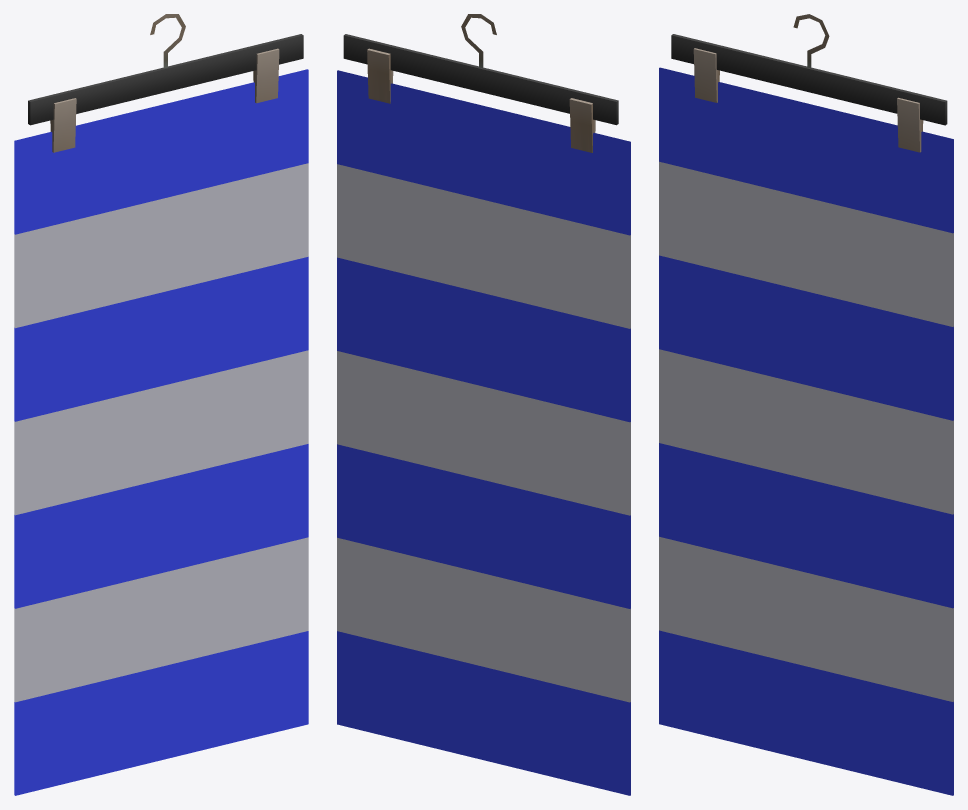
Rendered from Hang_Towel_03.fbx.
3 renders of one model, left to right at view 1: azimuth 30°, elevation 25°; view 2: azimuth 150°, elevation 25°; view 3: azimuth 330°, elevation 25°, orthographic.
Visible parts, largest first — view 1: Hang_Towel_03; view 2: Hang_Towel_03; view 3: Hang_Towel_03.
Part boxes in pixels (x1,y1,x2,y2): Hang_Towel_03: (14,14,308,795); Hang_Towel_03: (337,14,630,795); Hang_Towel_03: (659,14,953,795).
Bounding box in the file's own units: 0.1666 × 0.4044 × 0.00506.
